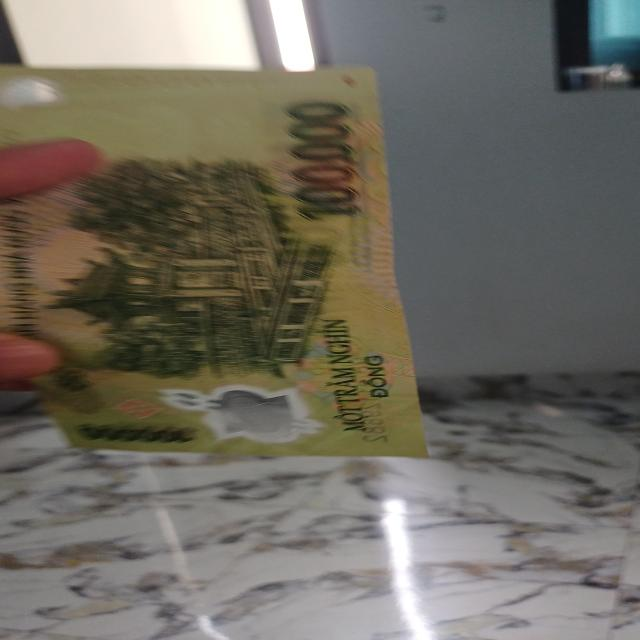100 000 VND: (11, 63, 447, 465)
